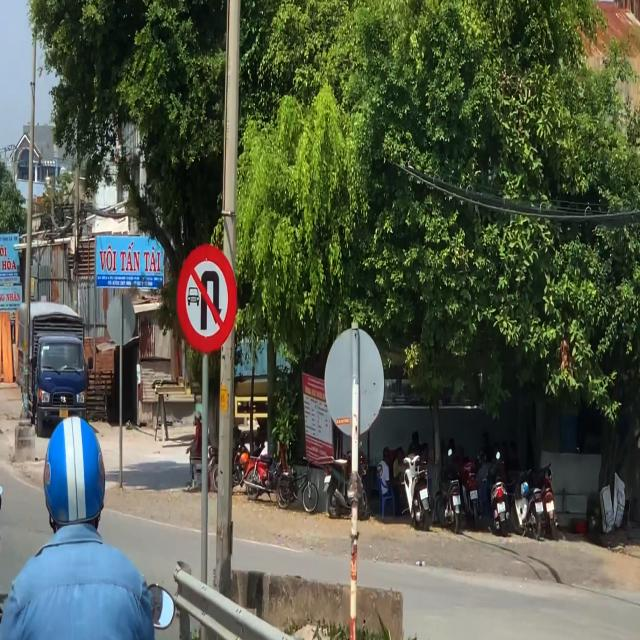Cam quay dau xe: (177, 244, 237, 353)
